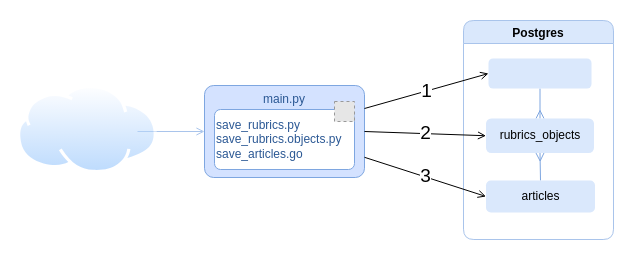
The diagram is 631 pixels wide and 257 high, and some of its shapes have lost their labels. Grey dashed boxes stand in for pictures. The shapes that lost their labels are listed below. From the top down, each one's centre as x and y in pixels, then its label:
At pixel 539 73: "rubrics".
At pixel 87 129: "API RG".
